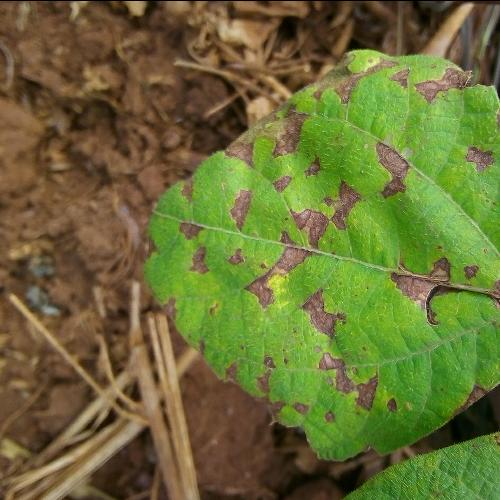hawar: (152, 48, 500, 443)
